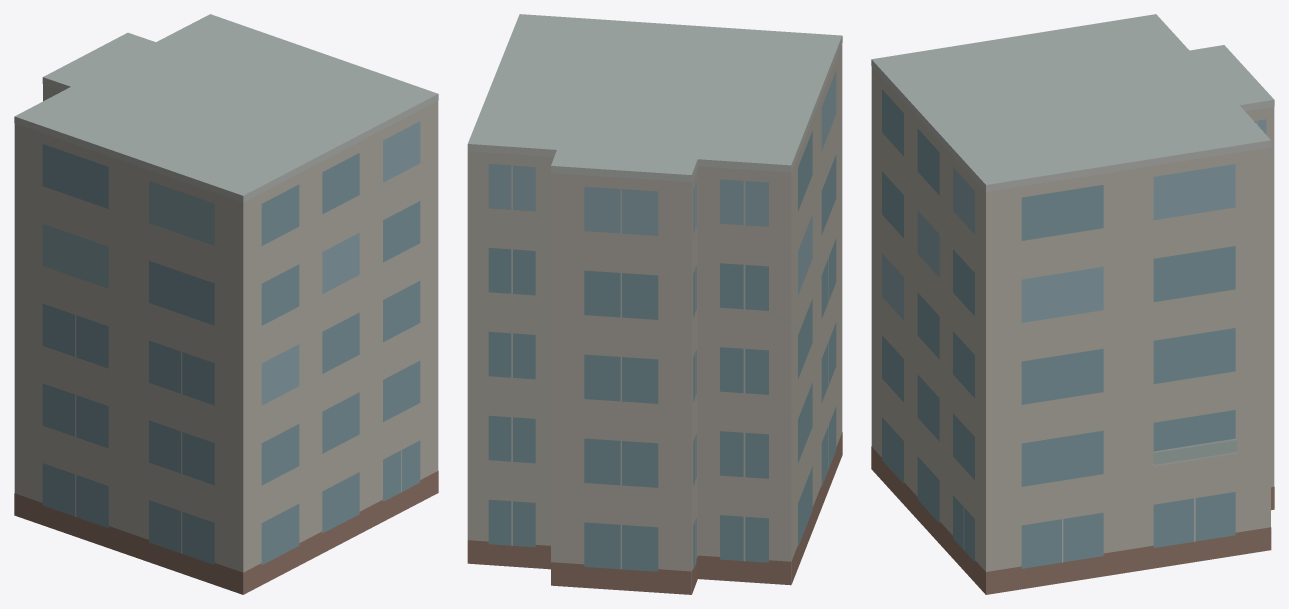
Rendered from survey-upis-32541338.glb.
The picture shows the model from 3 angles, left to right: view 1: azimuth 30°, elevation 25°; view 2: azimuth 150°, elevation 25°; view 3: azimuth 270°, elevation 25°; orthographic projection. The views are drawn at different scales.
Visible parts, largest first — view 1: survey-upis-32541338.tmp; view 2: survey-upis-32541338.tmp; view 3: survey-upis-32541338.tmp.
Boxes of the visible parts, x1,y1,x2,y2 form: survey-upis-32541338.tmp: [14, 14, 438, 594]; survey-upis-32541338.tmp: [467, 14, 842, 594]; survey-upis-32541338.tmp: [871, 14, 1274, 594].
Bounding box in the file's own units: 12.81 × 14.3 × 12.75.
